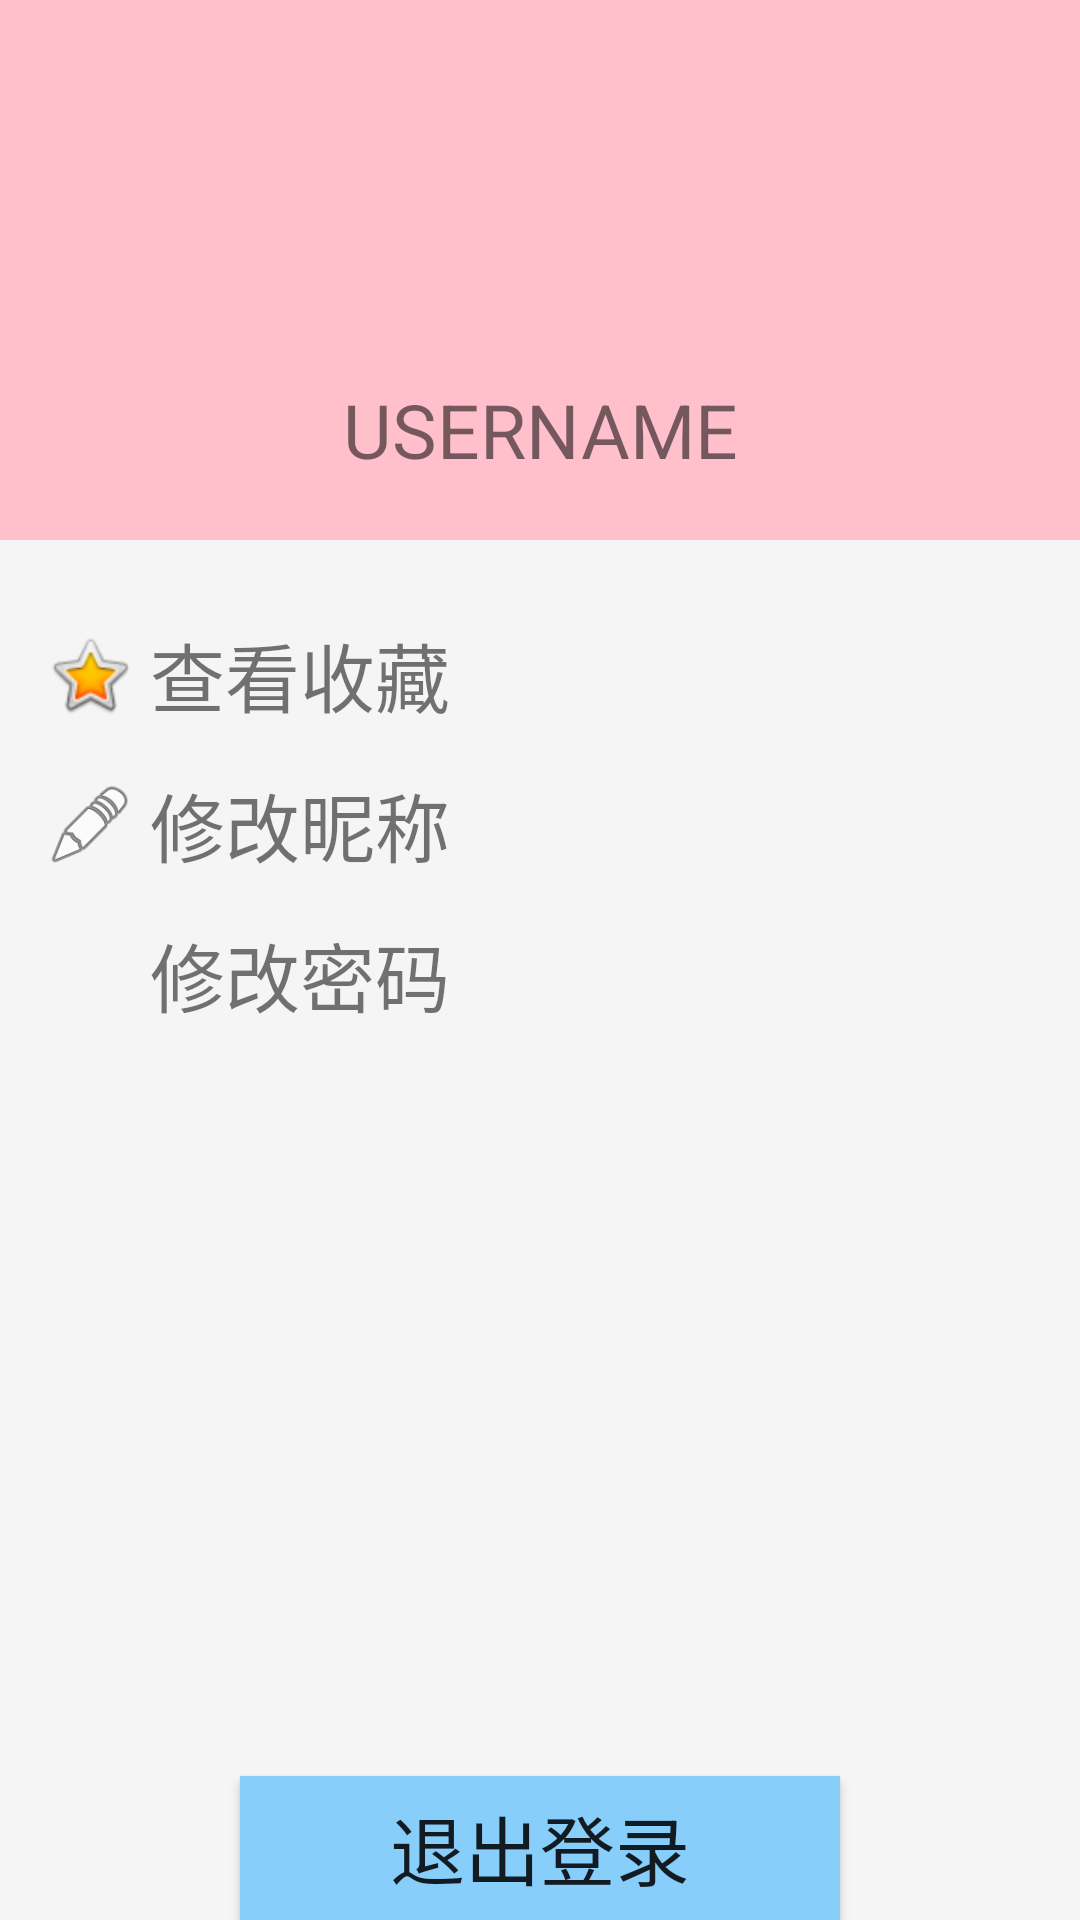

Icon bounding boxes for this 1080px x 1920px phone screenshot, format (x1, y1, x2, y2):
edit: (51, 786, 128, 863)
star on: (53, 639, 128, 712)
